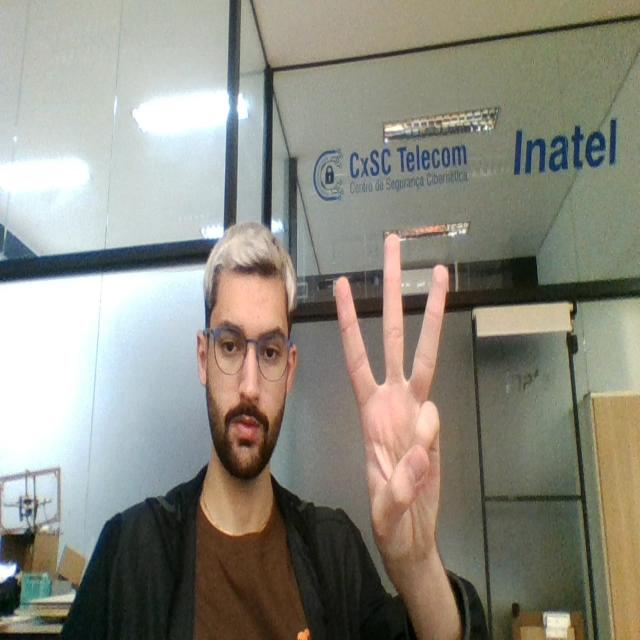W: (326, 229, 462, 567)
